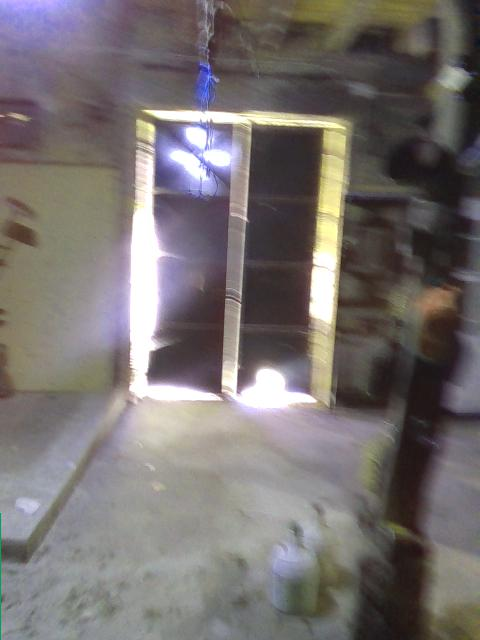closed_door: (126, 107, 349, 415)
